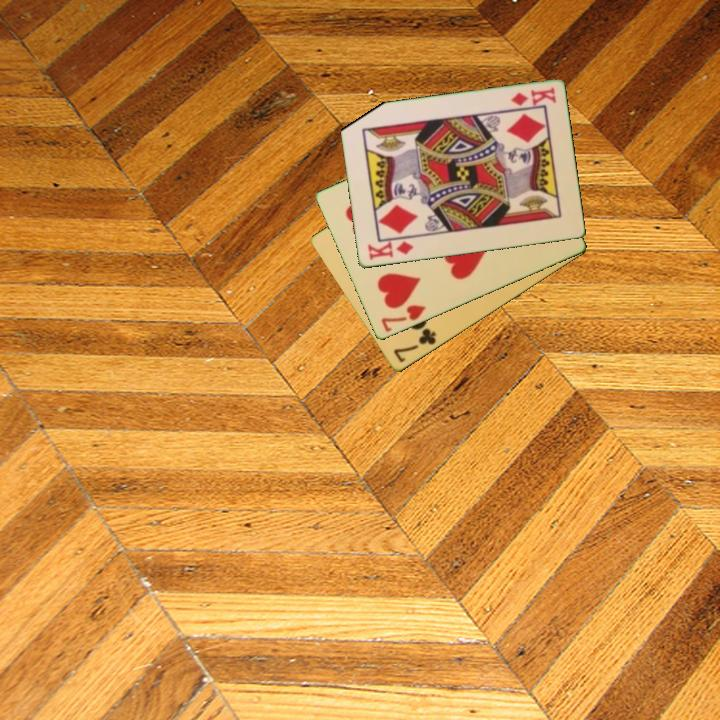7c: (390, 325, 439, 366)
7h: (377, 301, 429, 335)
Kd: (507, 83, 559, 109), (364, 238, 416, 263)
